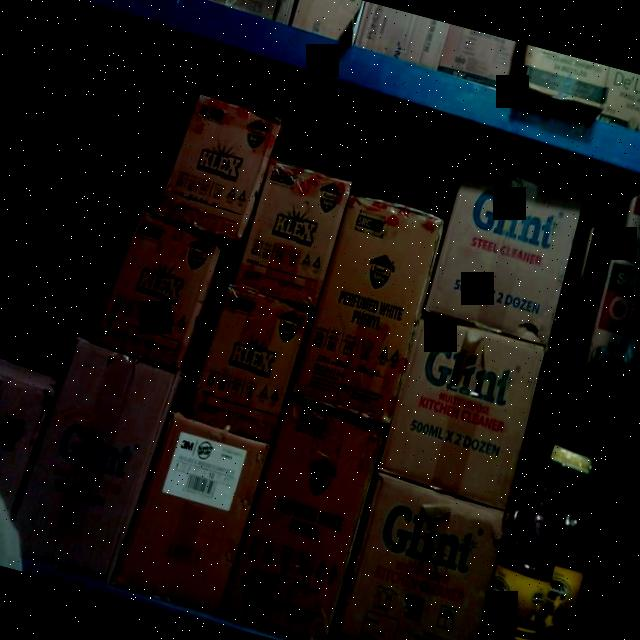box: (223, 385, 388, 640), (12, 332, 171, 588), (294, 185, 444, 418), (420, 159, 588, 345), (377, 325, 545, 503), (124, 412, 268, 617), (335, 482, 512, 640), (95, 206, 221, 373), (161, 88, 279, 239), (193, 289, 307, 442), (241, 157, 350, 310)
